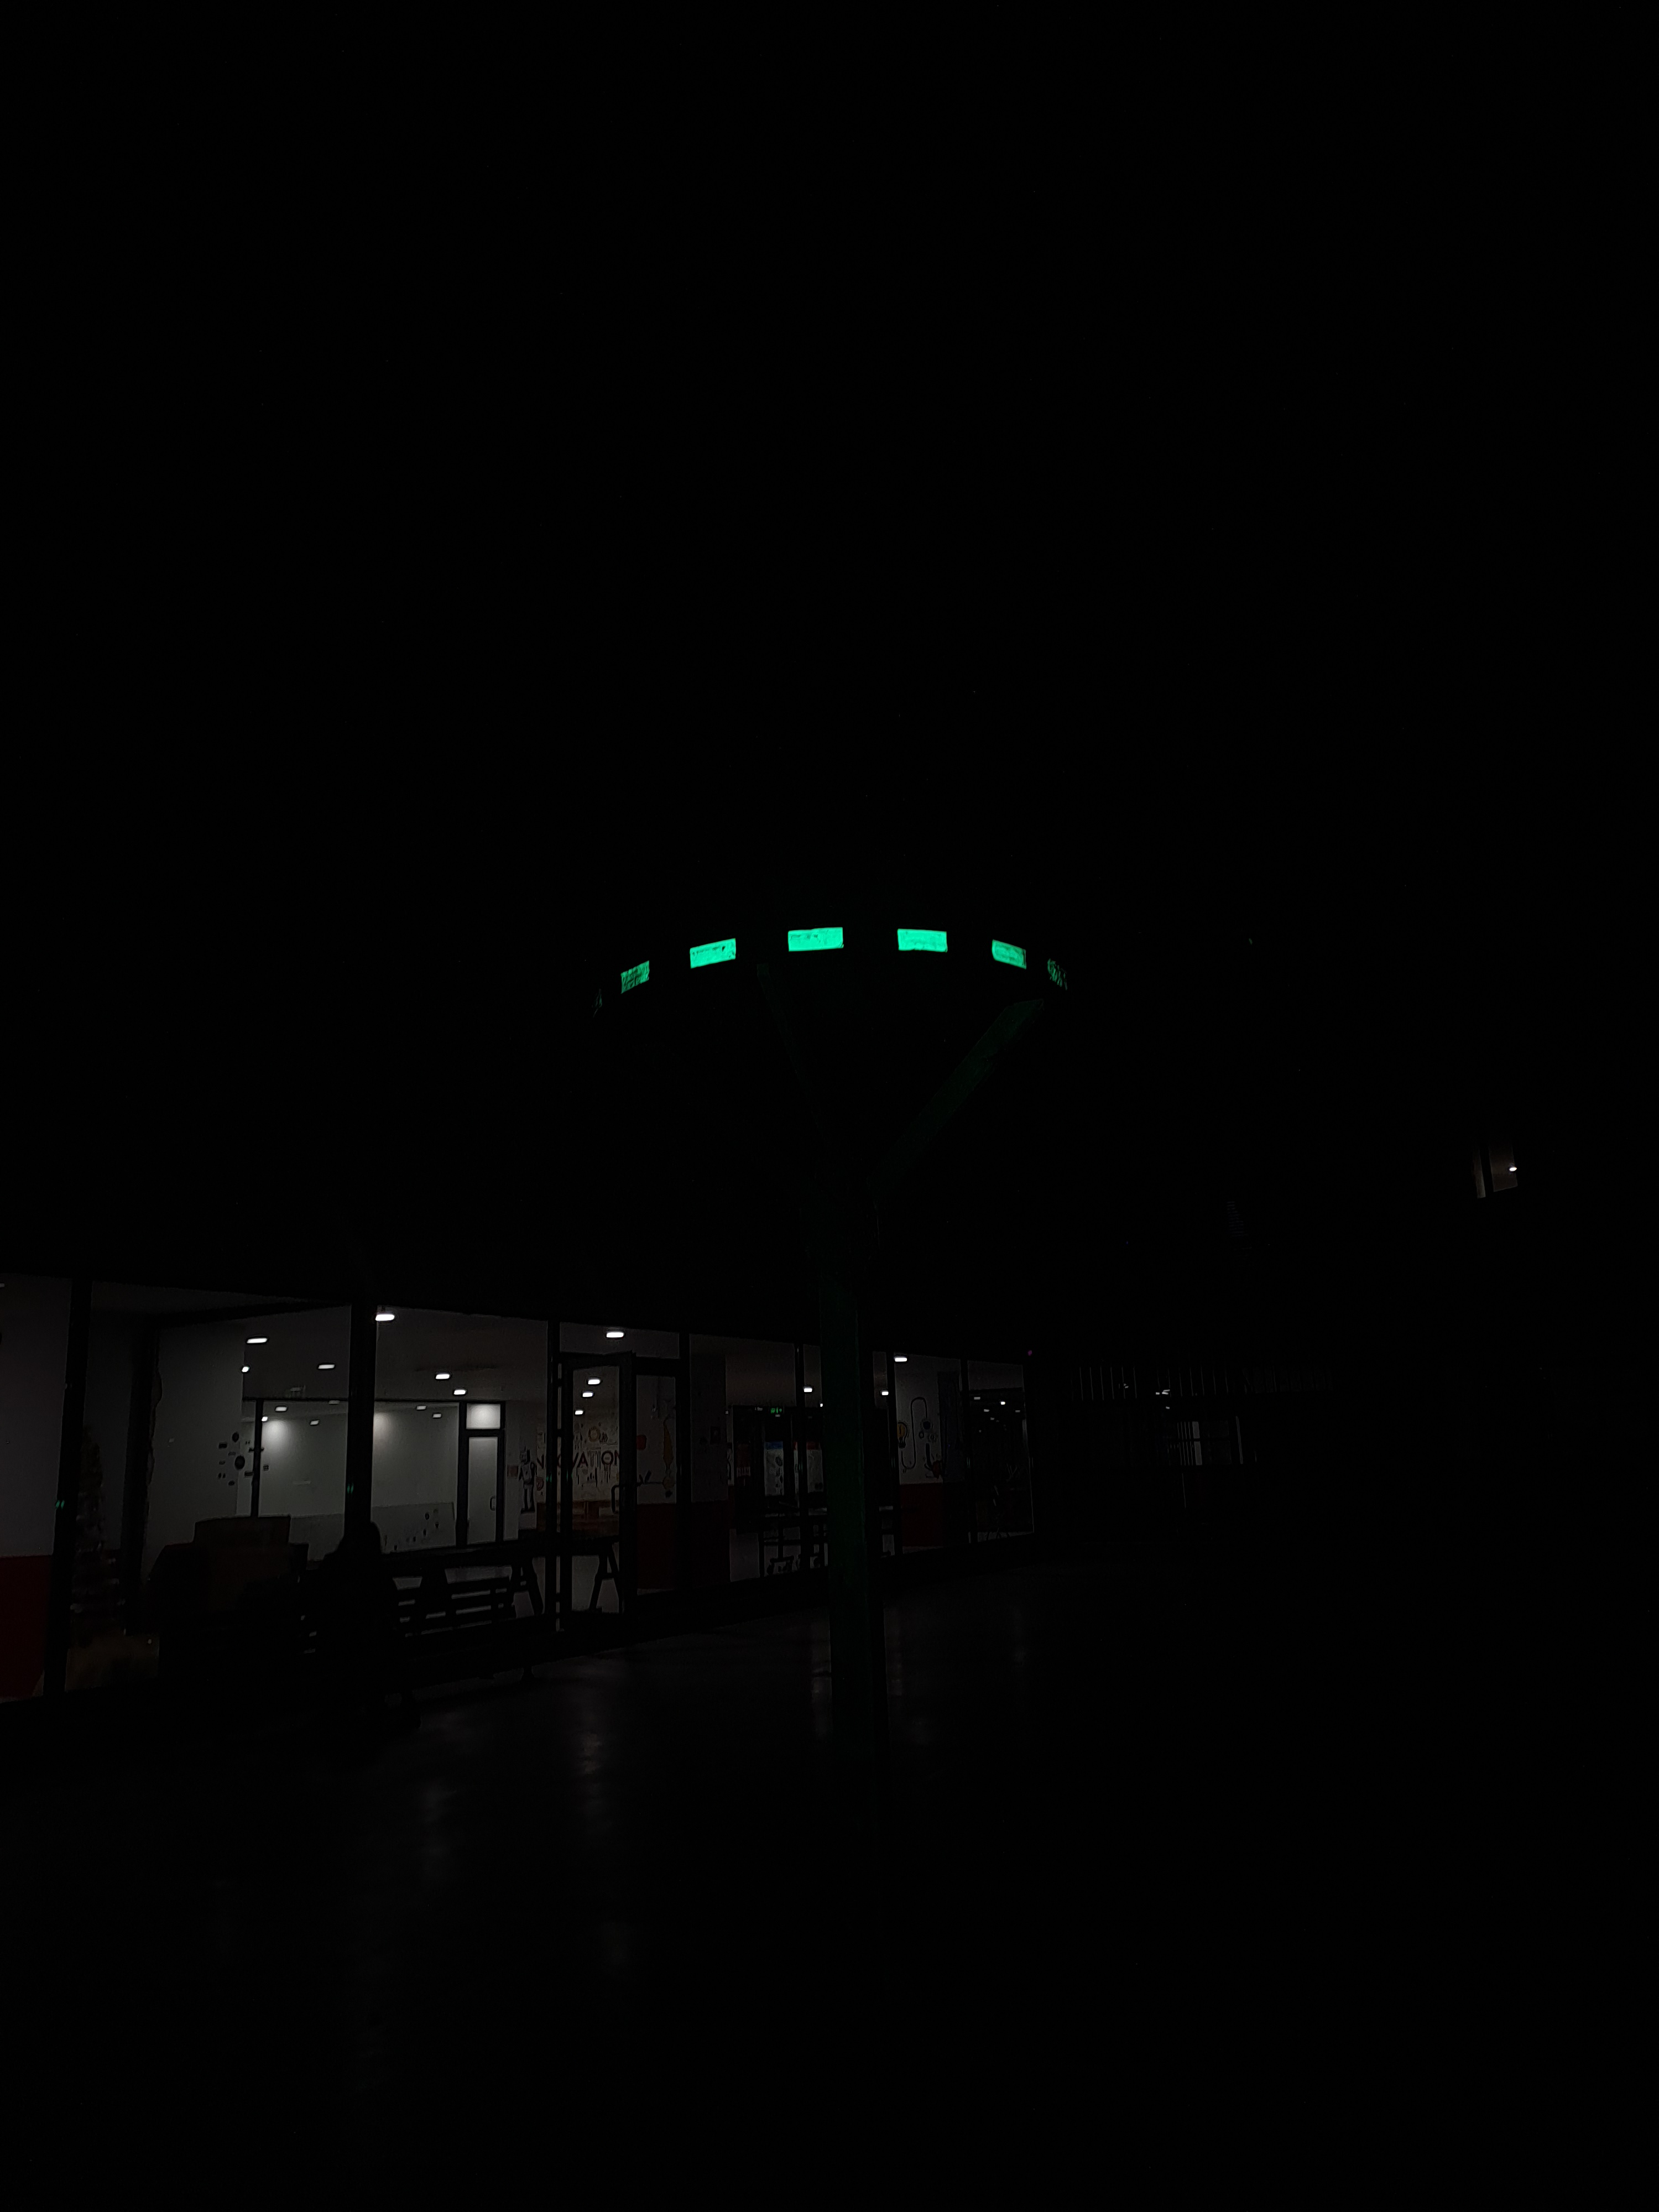hoop: (617, 923, 1066, 1007)
